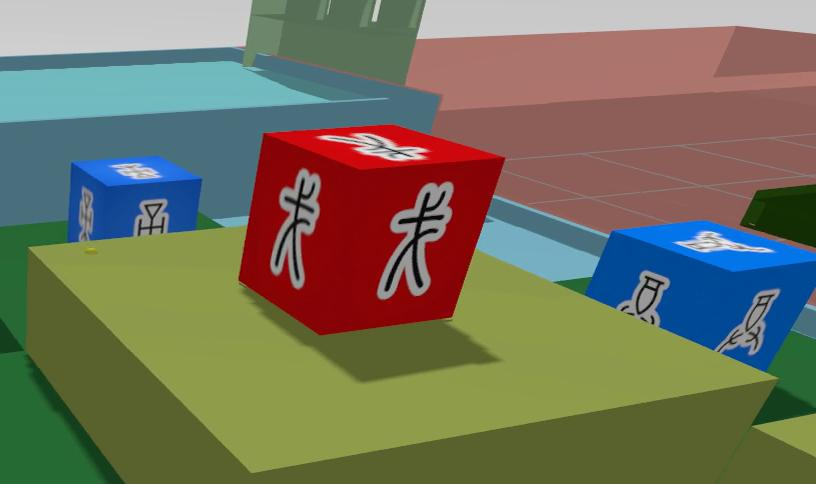KFS_FAKE: (376, 182, 453, 299), (269, 169, 320, 288)
KFS_REAL: (587, 221, 815, 369), (69, 156, 201, 241), (715, 290, 780, 355), (617, 271, 669, 325), (134, 201, 169, 235)
